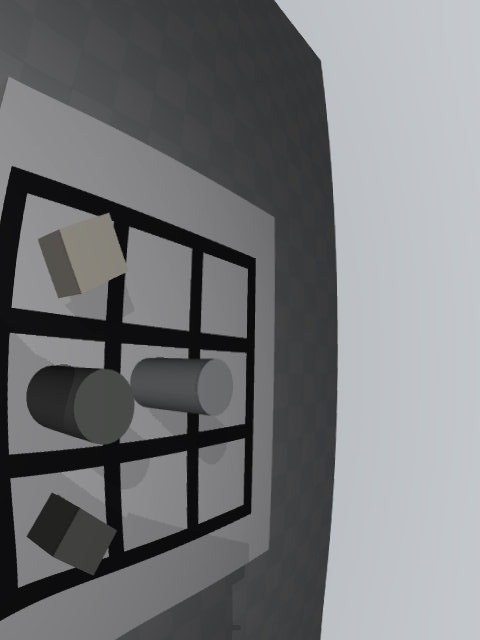can: (130, 358, 233, 416)
cube: (27, 493, 117, 576)
cylinder: (26, 366, 135, 445)
foam: (38, 213, 128, 298)
